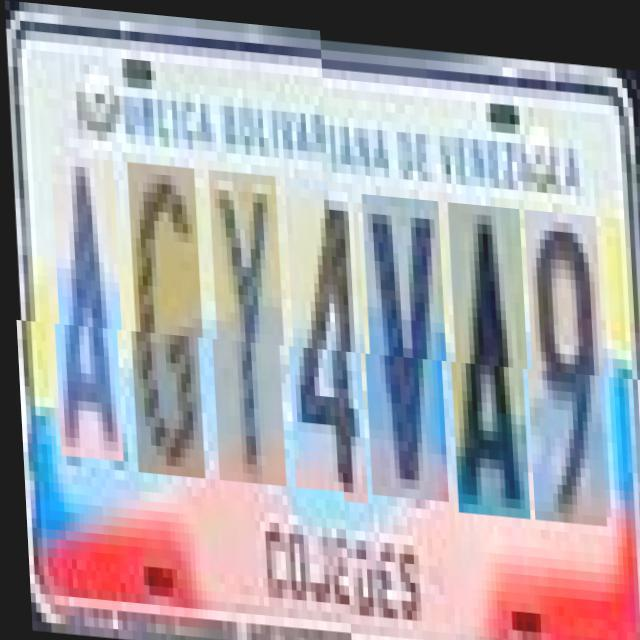4: (284, 181, 368, 497)
9: (522, 200, 606, 516)
A: (446, 193, 530, 510), (50, 163, 124, 469)
G: (126, 169, 206, 485)
V: (359, 186, 448, 494)
Y: (207, 175, 287, 491)
